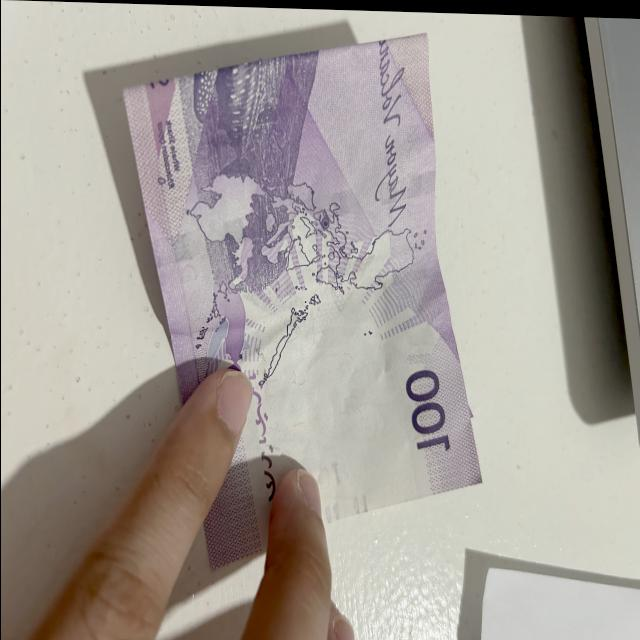100_whale: (195, 60, 273, 174)
100_whale_watermark: (210, 281, 248, 373)
value_watermark: (315, 457, 340, 492)
